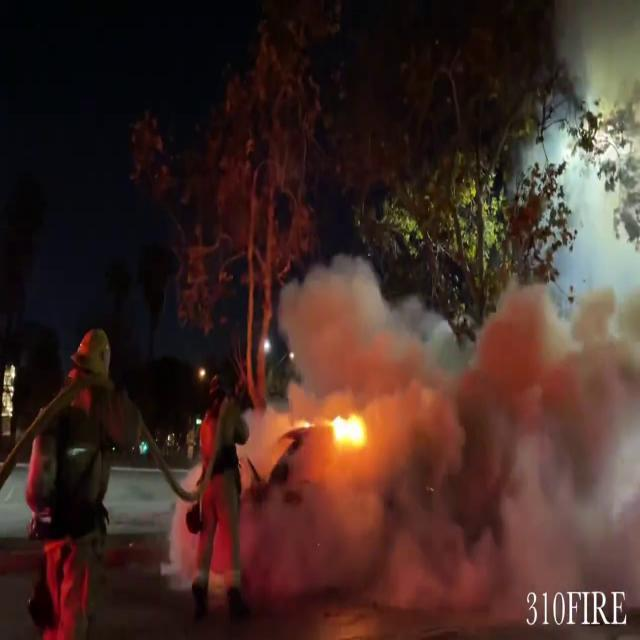Fire: (324, 401, 371, 466)
Smoke: (284, 248, 640, 616)
